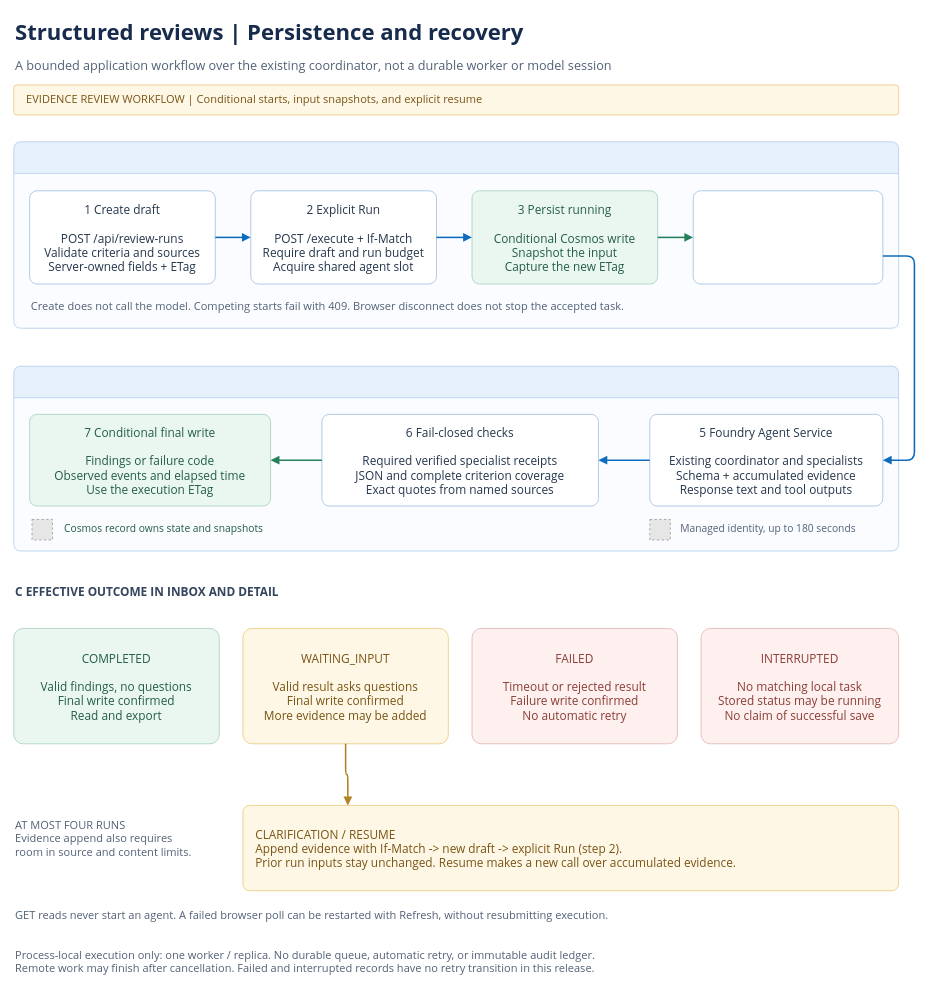
The diagram is 935 pixels wide and 999 high, and some of its shapes have lost their labels. Grey dashed boxes stand in for pictures. The shapes that lost their labels are listed below. From the top down, each one's box as (x1, y1, x2, y2) in pixels, then its label:
(13, 141, 899, 328): A ACCEPT AND PERSIST BEFORE EXECUTION
(692, 190, 883, 284): 4 Schedule task Local asyncio execution Return HTTP 202 Browser polls the record
(13, 365, 899, 551): B EXECUTE, VALIDATE, THEN SAVE | FOLLOW THE RETURN PATH RIGHT TO LEFT
